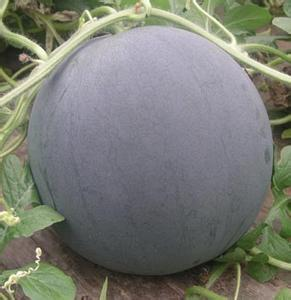watermelon: (26, 9, 275, 272)
